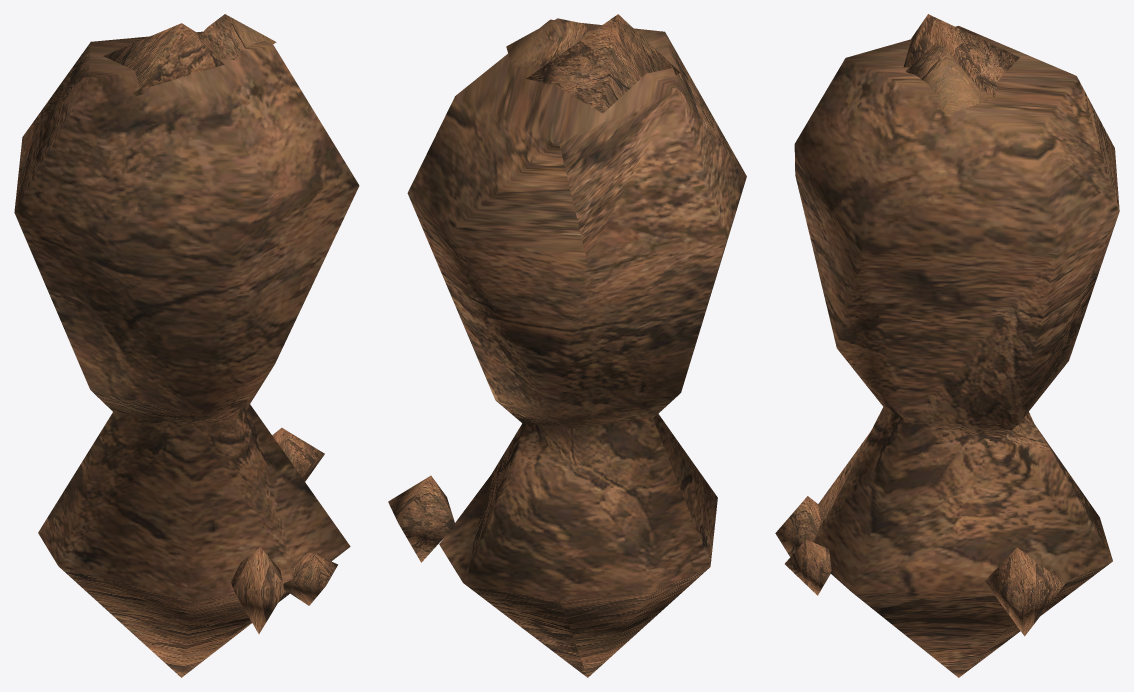
Rendered from rock_tatt_mushroom_a1_l4.fbx.
The picture shows the model from 3 angles, left to right: view 1: azimuth 30°, elevation 25°; view 2: azimuth 150°, elevation 25°; view 3: azimuth 270°, elevation 25°; orthographic projection. The views are drawn at different scales.
Parts seen in each view (by area): view 1: mesh_node; view 2: mesh_node; view 3: mesh_node.
Boxes of the visible parts, x1,y1,x2,y2 form: mesh_node: [14, 14, 359, 677]; mesh_node: [388, 14, 746, 677]; mesh_node: [775, 14, 1119, 677].
Bounding box in the file's own units: 32.09 × 62.64 × 29.77.
1 material, 1 textured.
